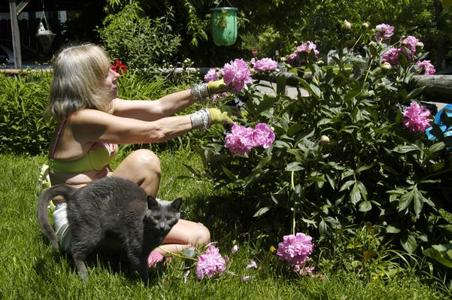person: (39, 47, 253, 267)
